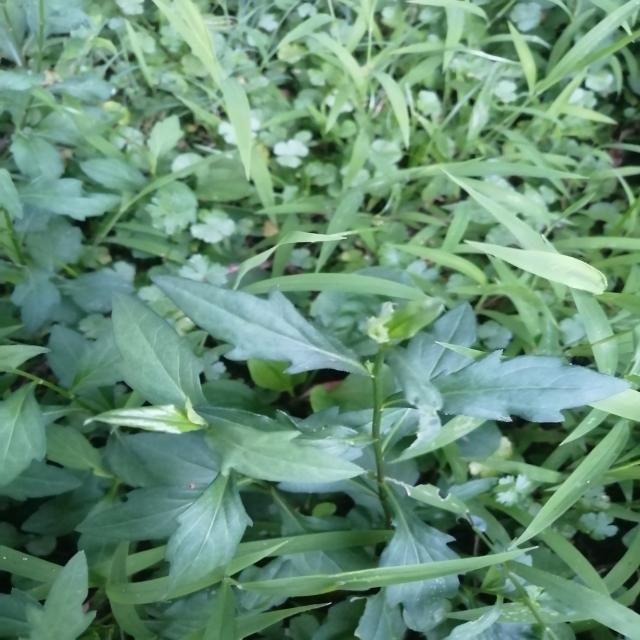Indian aster: (169, 255, 578, 495), (52, 323, 336, 593)
